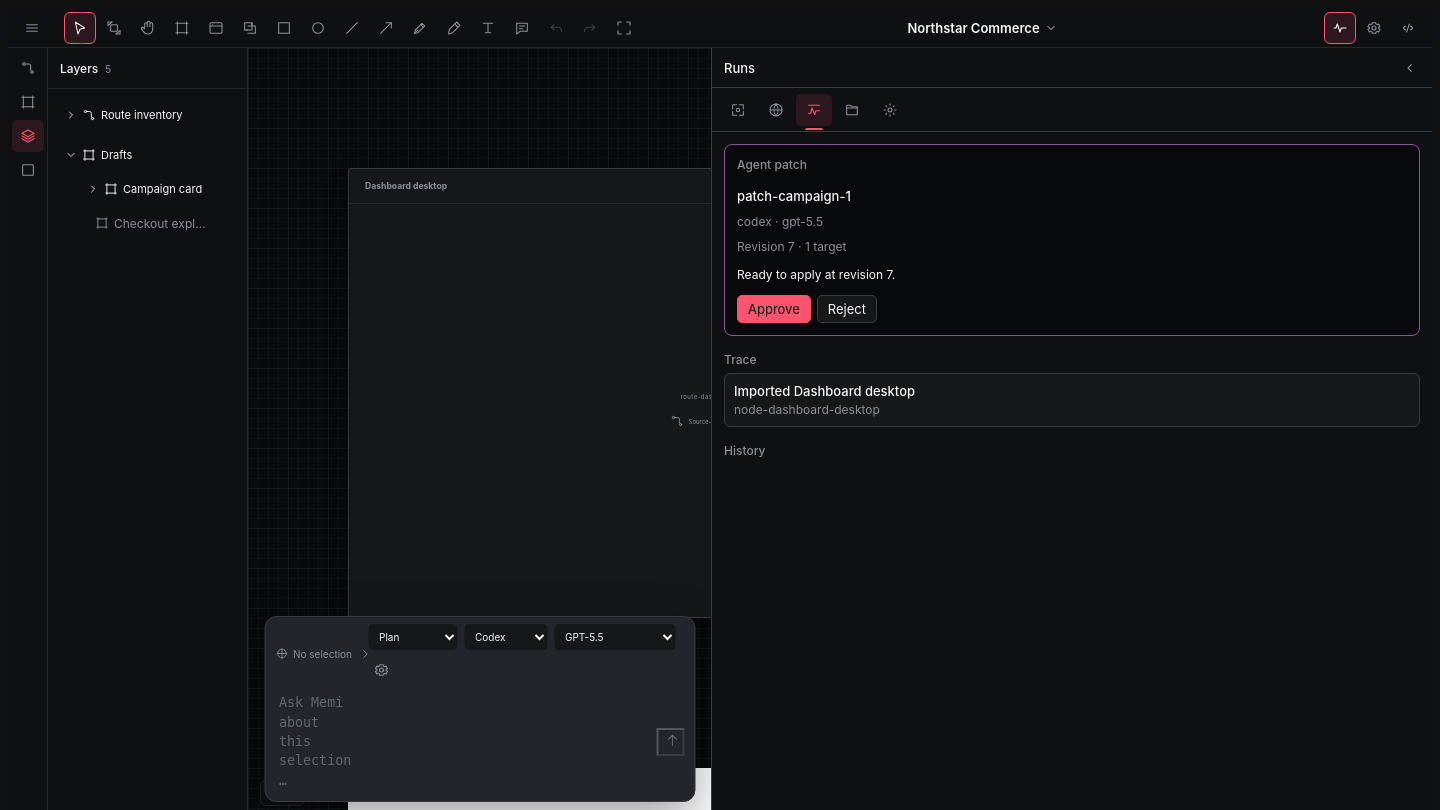
Test case: CanvasWorkbench agent patch review › shows matching patches in Runs and applies them only after approval
The width and height of the screenshot is (1440, 810).
Expected: the element named "Canvas tools" is shown, [64,12,640,44]
Expected: the element named "Agent patch review" shows "codex", [737,214,772,229]
Click the button with aria-label "Approve agent patch patch-campaign-1".
click(774, 309)  # box [737,295,811,323]
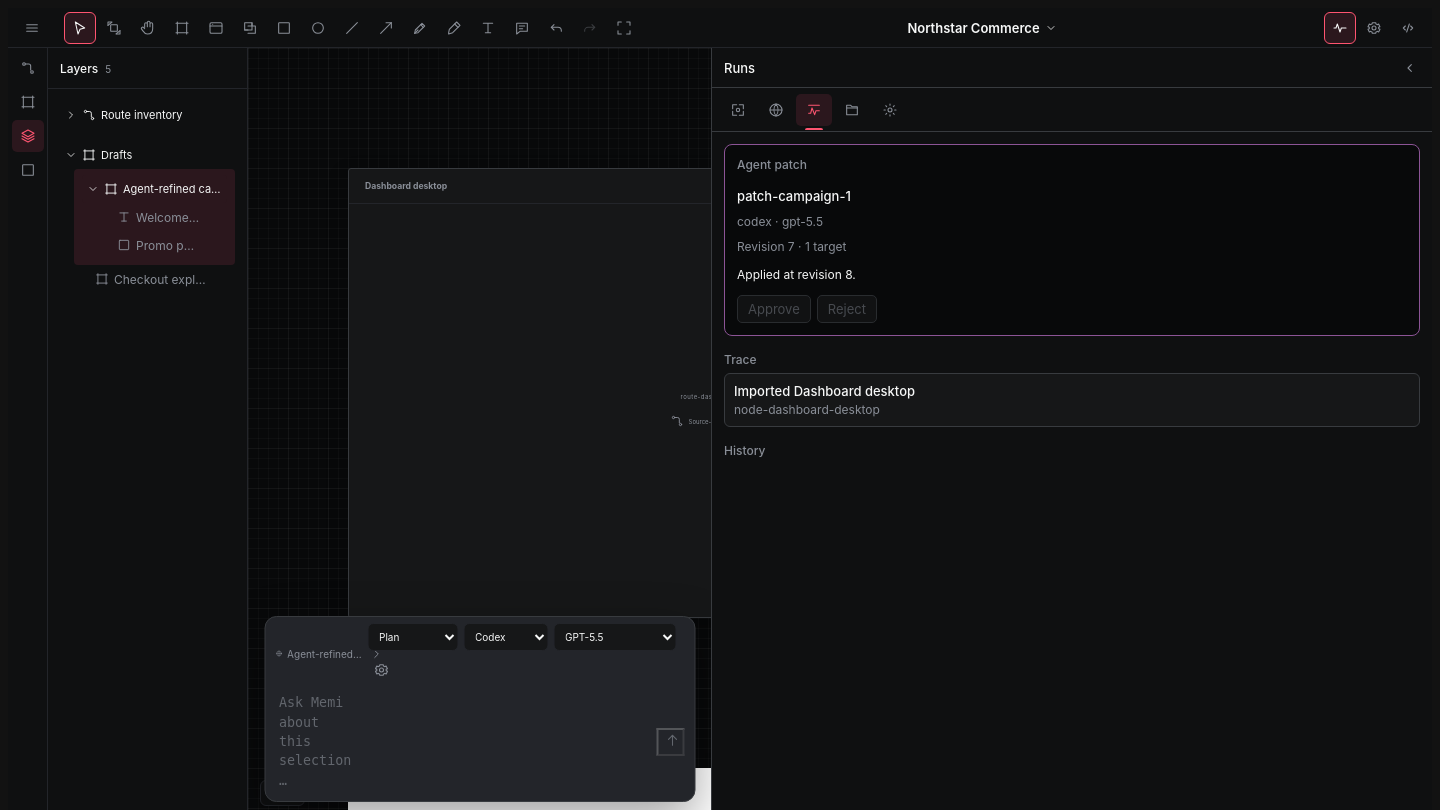
Expected: the message "Applied at revision 8." is shown, [737,267,856,282]
